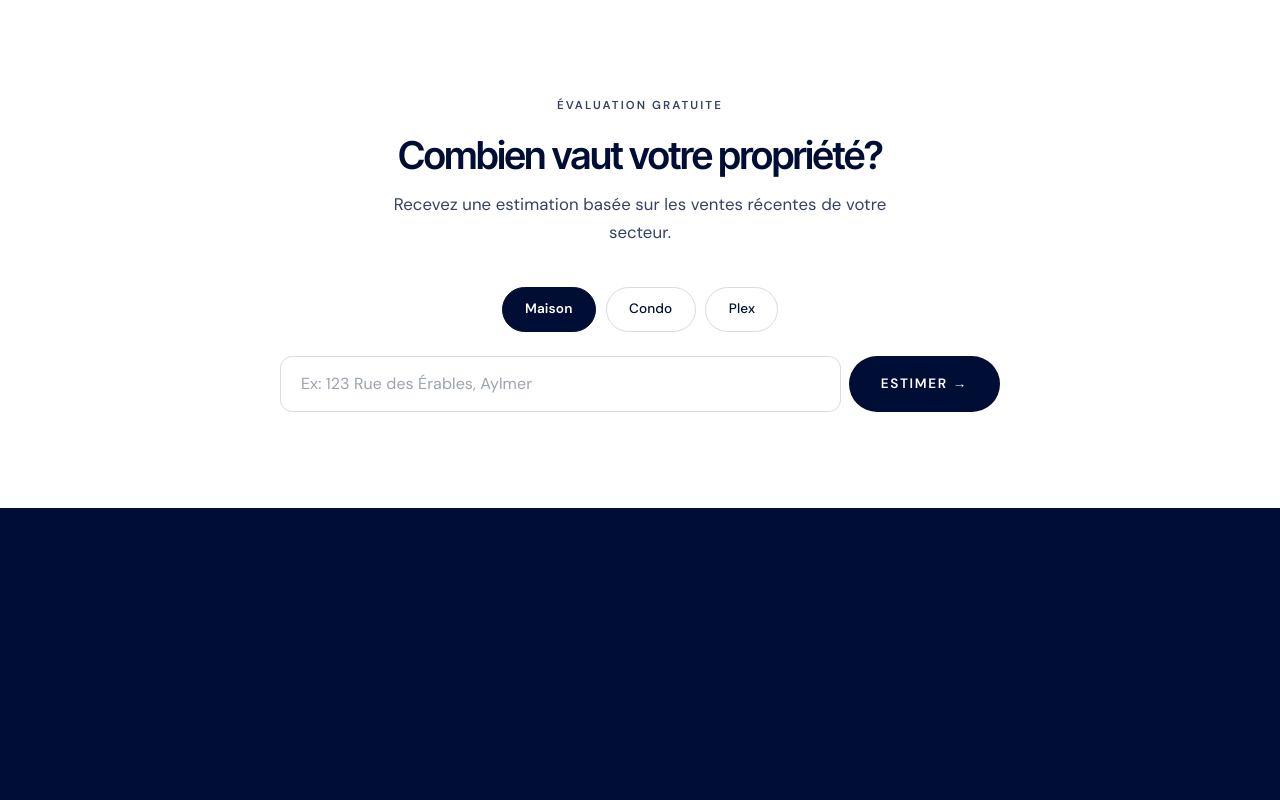
ValuationWidget submission outcomes (simulated responses only) › save + notification succeed: shows the full thank you
Type "100 Rue Principale, Aylmer" into the field with placeholder "Ex: 123 Rue des Érables, Aylmer" at (560, 384), box [280,356,841,412]
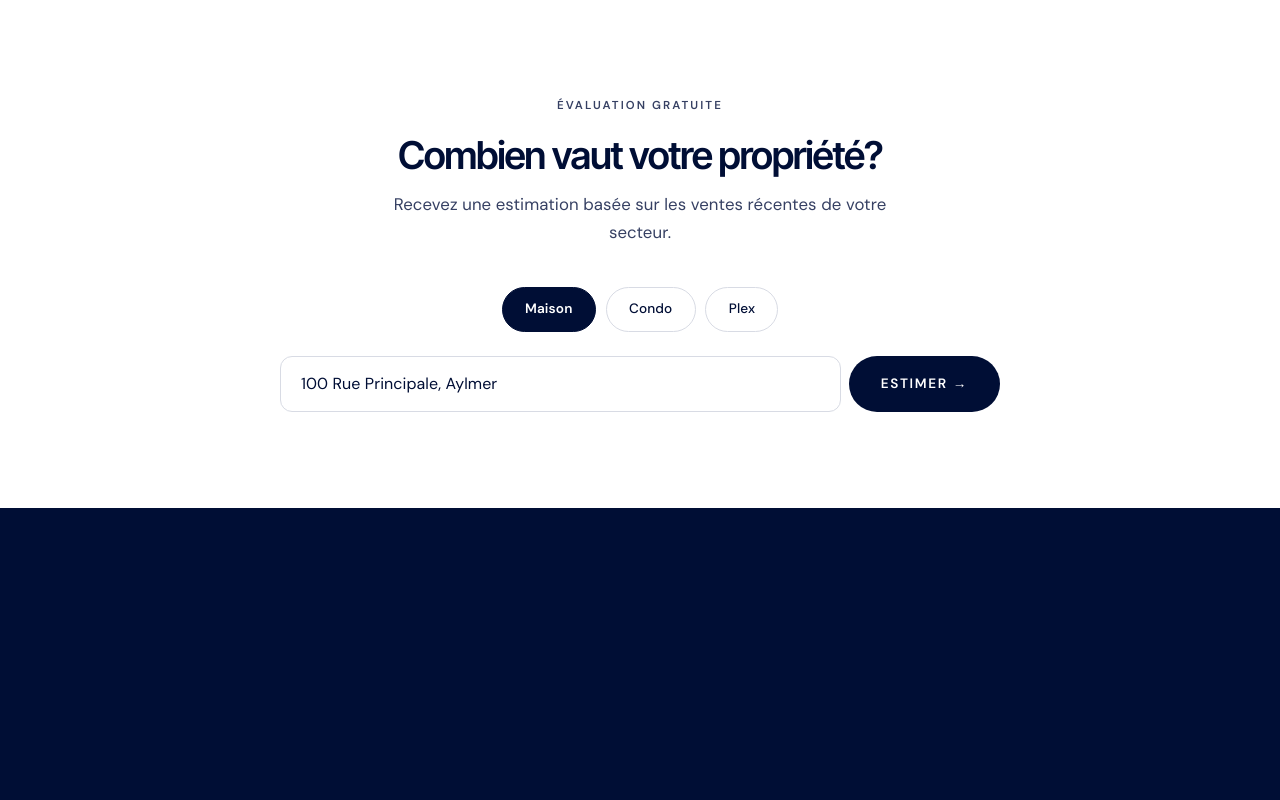
Click the button "ESTIMER →" at (924, 384), box [849,356,1000,412]
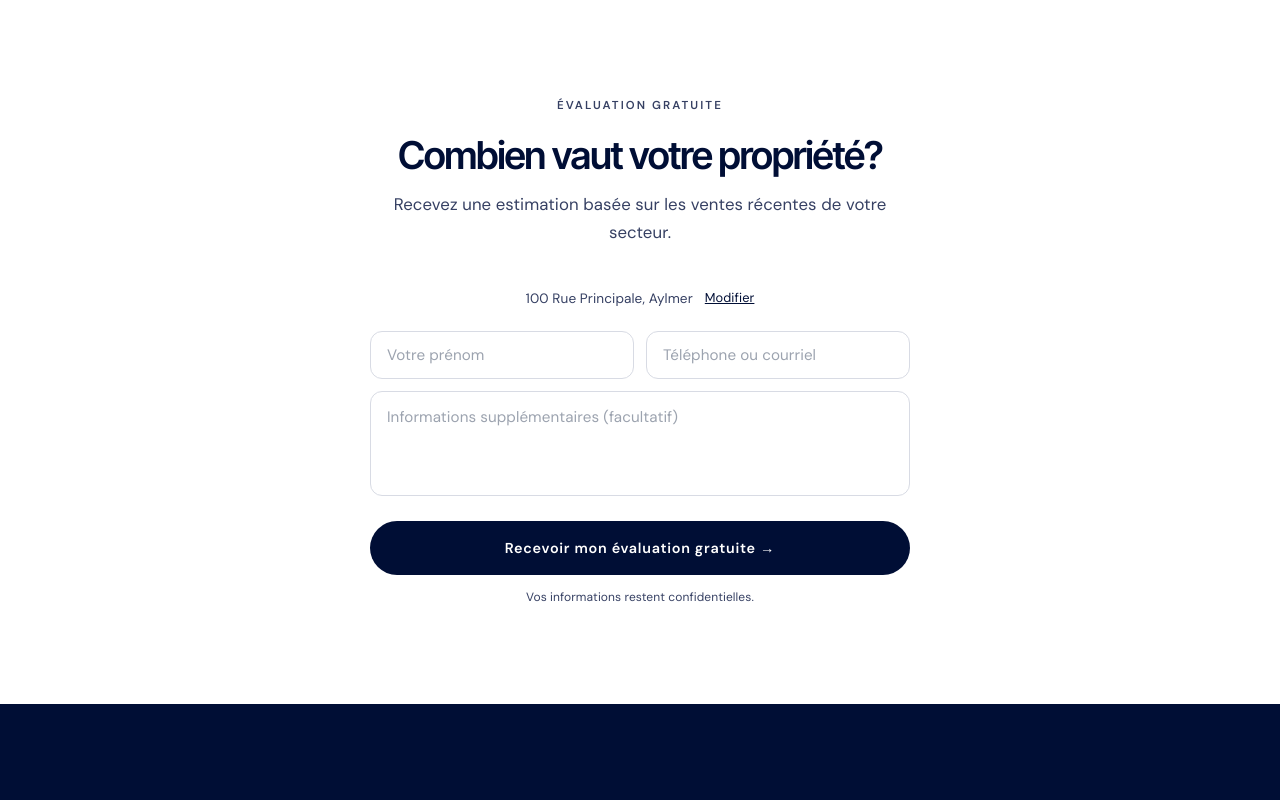
Expected: the field with placeholder "Votre prénom" is shown
Type "Alex" into the field with placeholder "Votre prénom" at (502, 354), box [370,330,634,378]
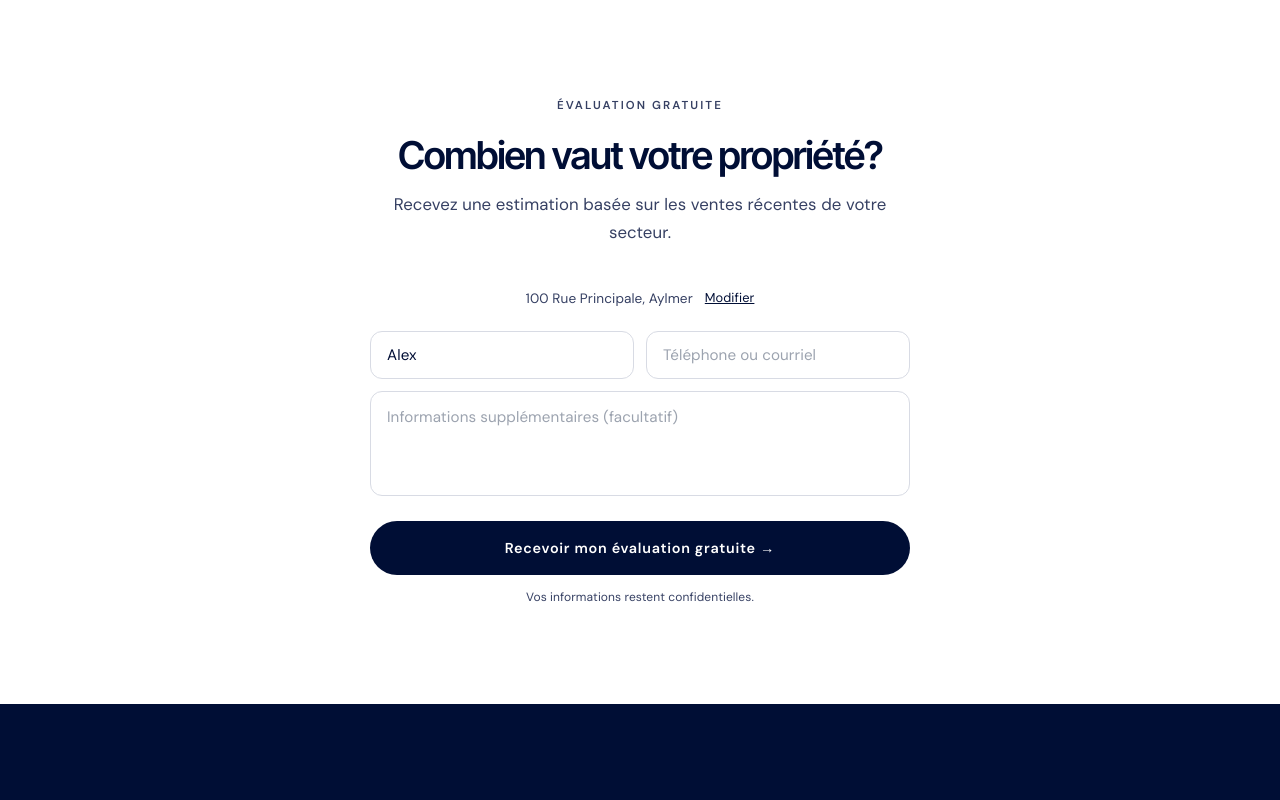
Type "alex@example.com" into the field with placeholder "Téléphone ou courriel" at (778, 354), box [646,330,910,378]
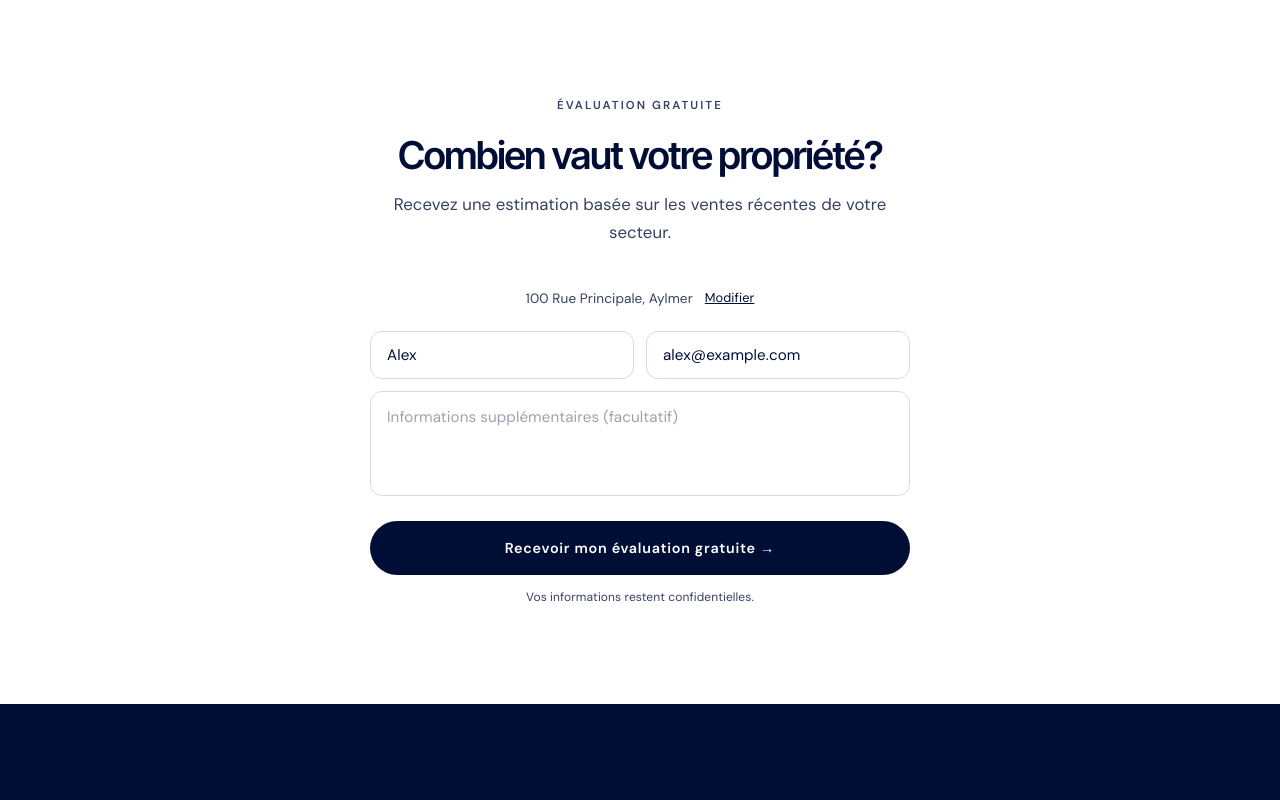
Click the button "Recevoir mon évaluation gratuite →" at (640, 548), box [370,521,910,575]
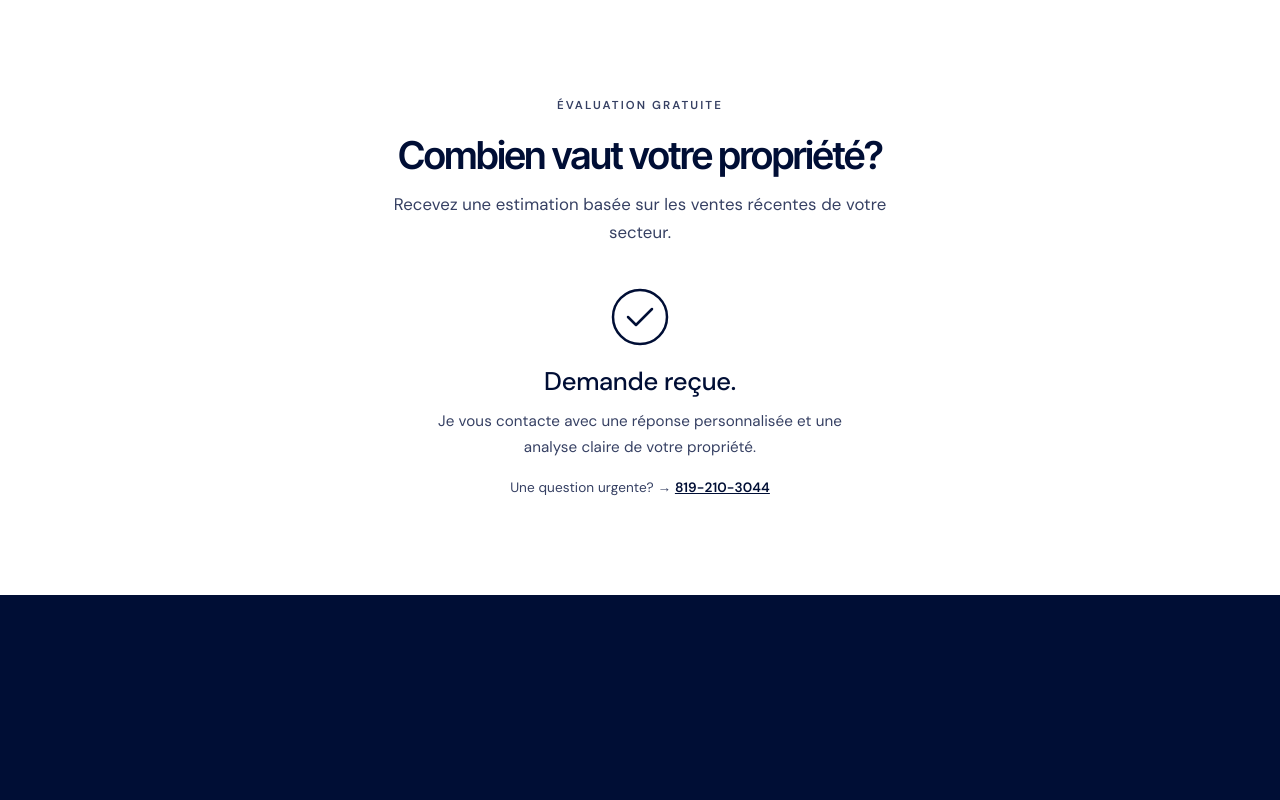
Expected: the heading "Demande reçue." is shown, [544,365,736,398]
